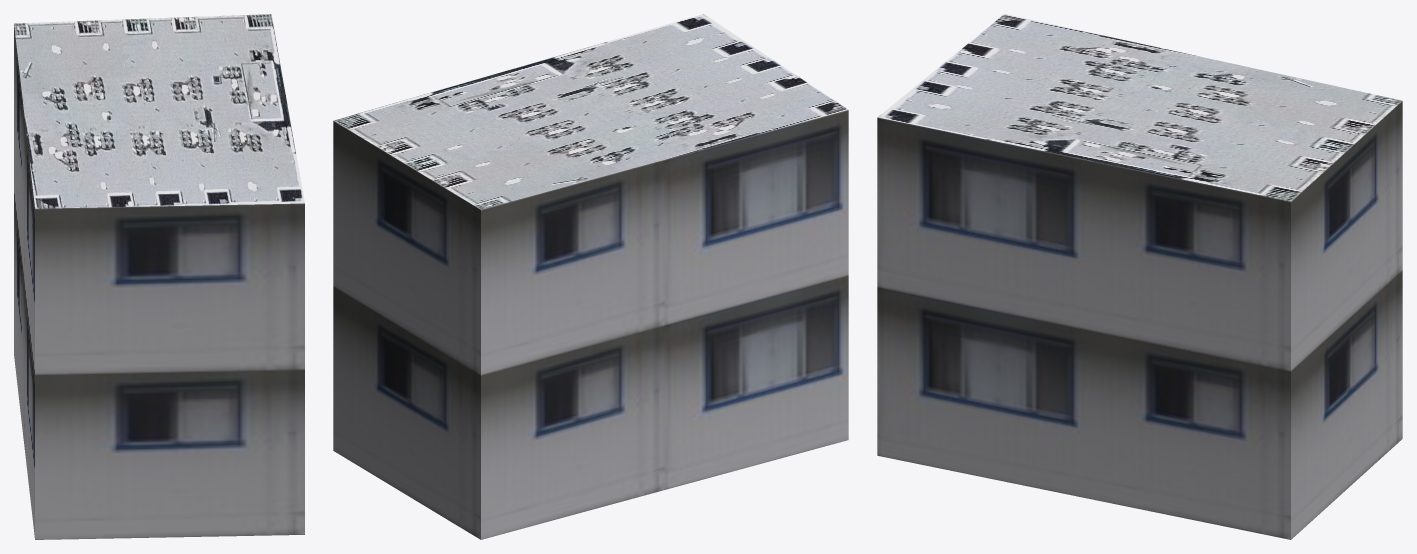
Rendered from ResTex__4590.fbx.
3 views of the same model, side by side, from view 1: azimuth 30°, elevation 25°; view 2: azimuth 150°, elevation 25°; view 3: azimuth 270°, elevation 25° (orthographic). The views are drawn at different scales.
Parts seen in each view (by area): view 1: CityEngineMaterial_9_m, CityEngineMaterial_m; view 2: CityEngineMaterial_9_m, CityEngineMaterial_m; view 3: CityEngineMaterial_9_m, CityEngineMaterial_m.
Boxes of the visible parts, bbox=[...] form: CityEngineMaterial_9_m: bbox=[14, 25, 304, 539]; CityEngineMaterial_m: bbox=[14, 14, 304, 208]; CityEngineMaterial_9_m: bbox=[333, 110, 848, 539]; CityEngineMaterial_m: bbox=[333, 14, 848, 209]; CityEngineMaterial_9_m: bbox=[877, 101, 1402, 539]; CityEngineMaterial_m: bbox=[877, 14, 1401, 201].
Size of the model in its own units: 7.14 by 6 by 8.44.
2 materials, 2 textured.
